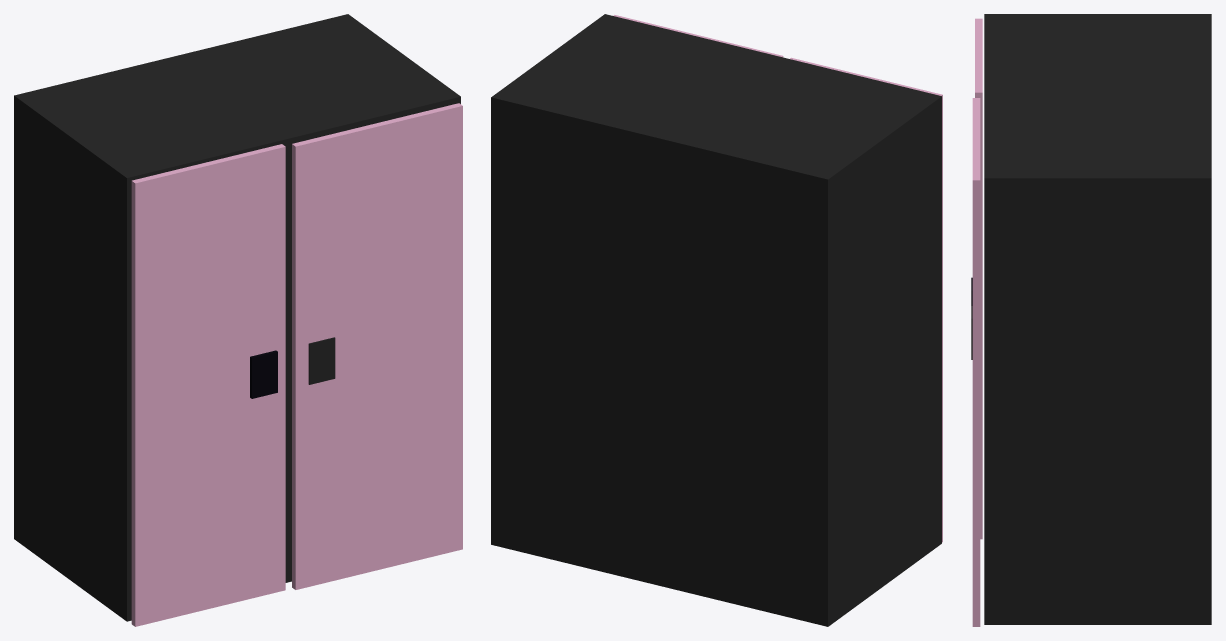
The model's file is cabinet_export.glb.
3 renders of one model, left to right at view 1: azimuth 30°, elevation 25°; view 2: azimuth 150°, elevation 25°; view 3: azimuth 270°, elevation 25°, orthographic.
Parts seen in each view (by area): view 1: Cube, Cube.001, Cube.002, Cube.003, Cube.004; view 2: Cube, Cube.002; view 3: Cube, Cube.001, Cube.002.
Part boxes in pixels (x1,y1,x2,y2): Cube: [14, 14, 460, 621]; Cube.001: [292, 103, 462, 589]; Cube.002: [131, 144, 285, 626]; Cube.003: [250, 350, 277, 398]; Cube.004: [308, 337, 335, 384]; Cube: [491, 14, 941, 626]; Cube.002: [790, 57, 942, 542]; Cube: [984, 14, 1211, 624]; Cube.001: [972, 98, 980, 626]; Cube.002: [975, 18, 982, 539].
Size of the model in its own units: 10.25 by 13.12 by 6.34.
